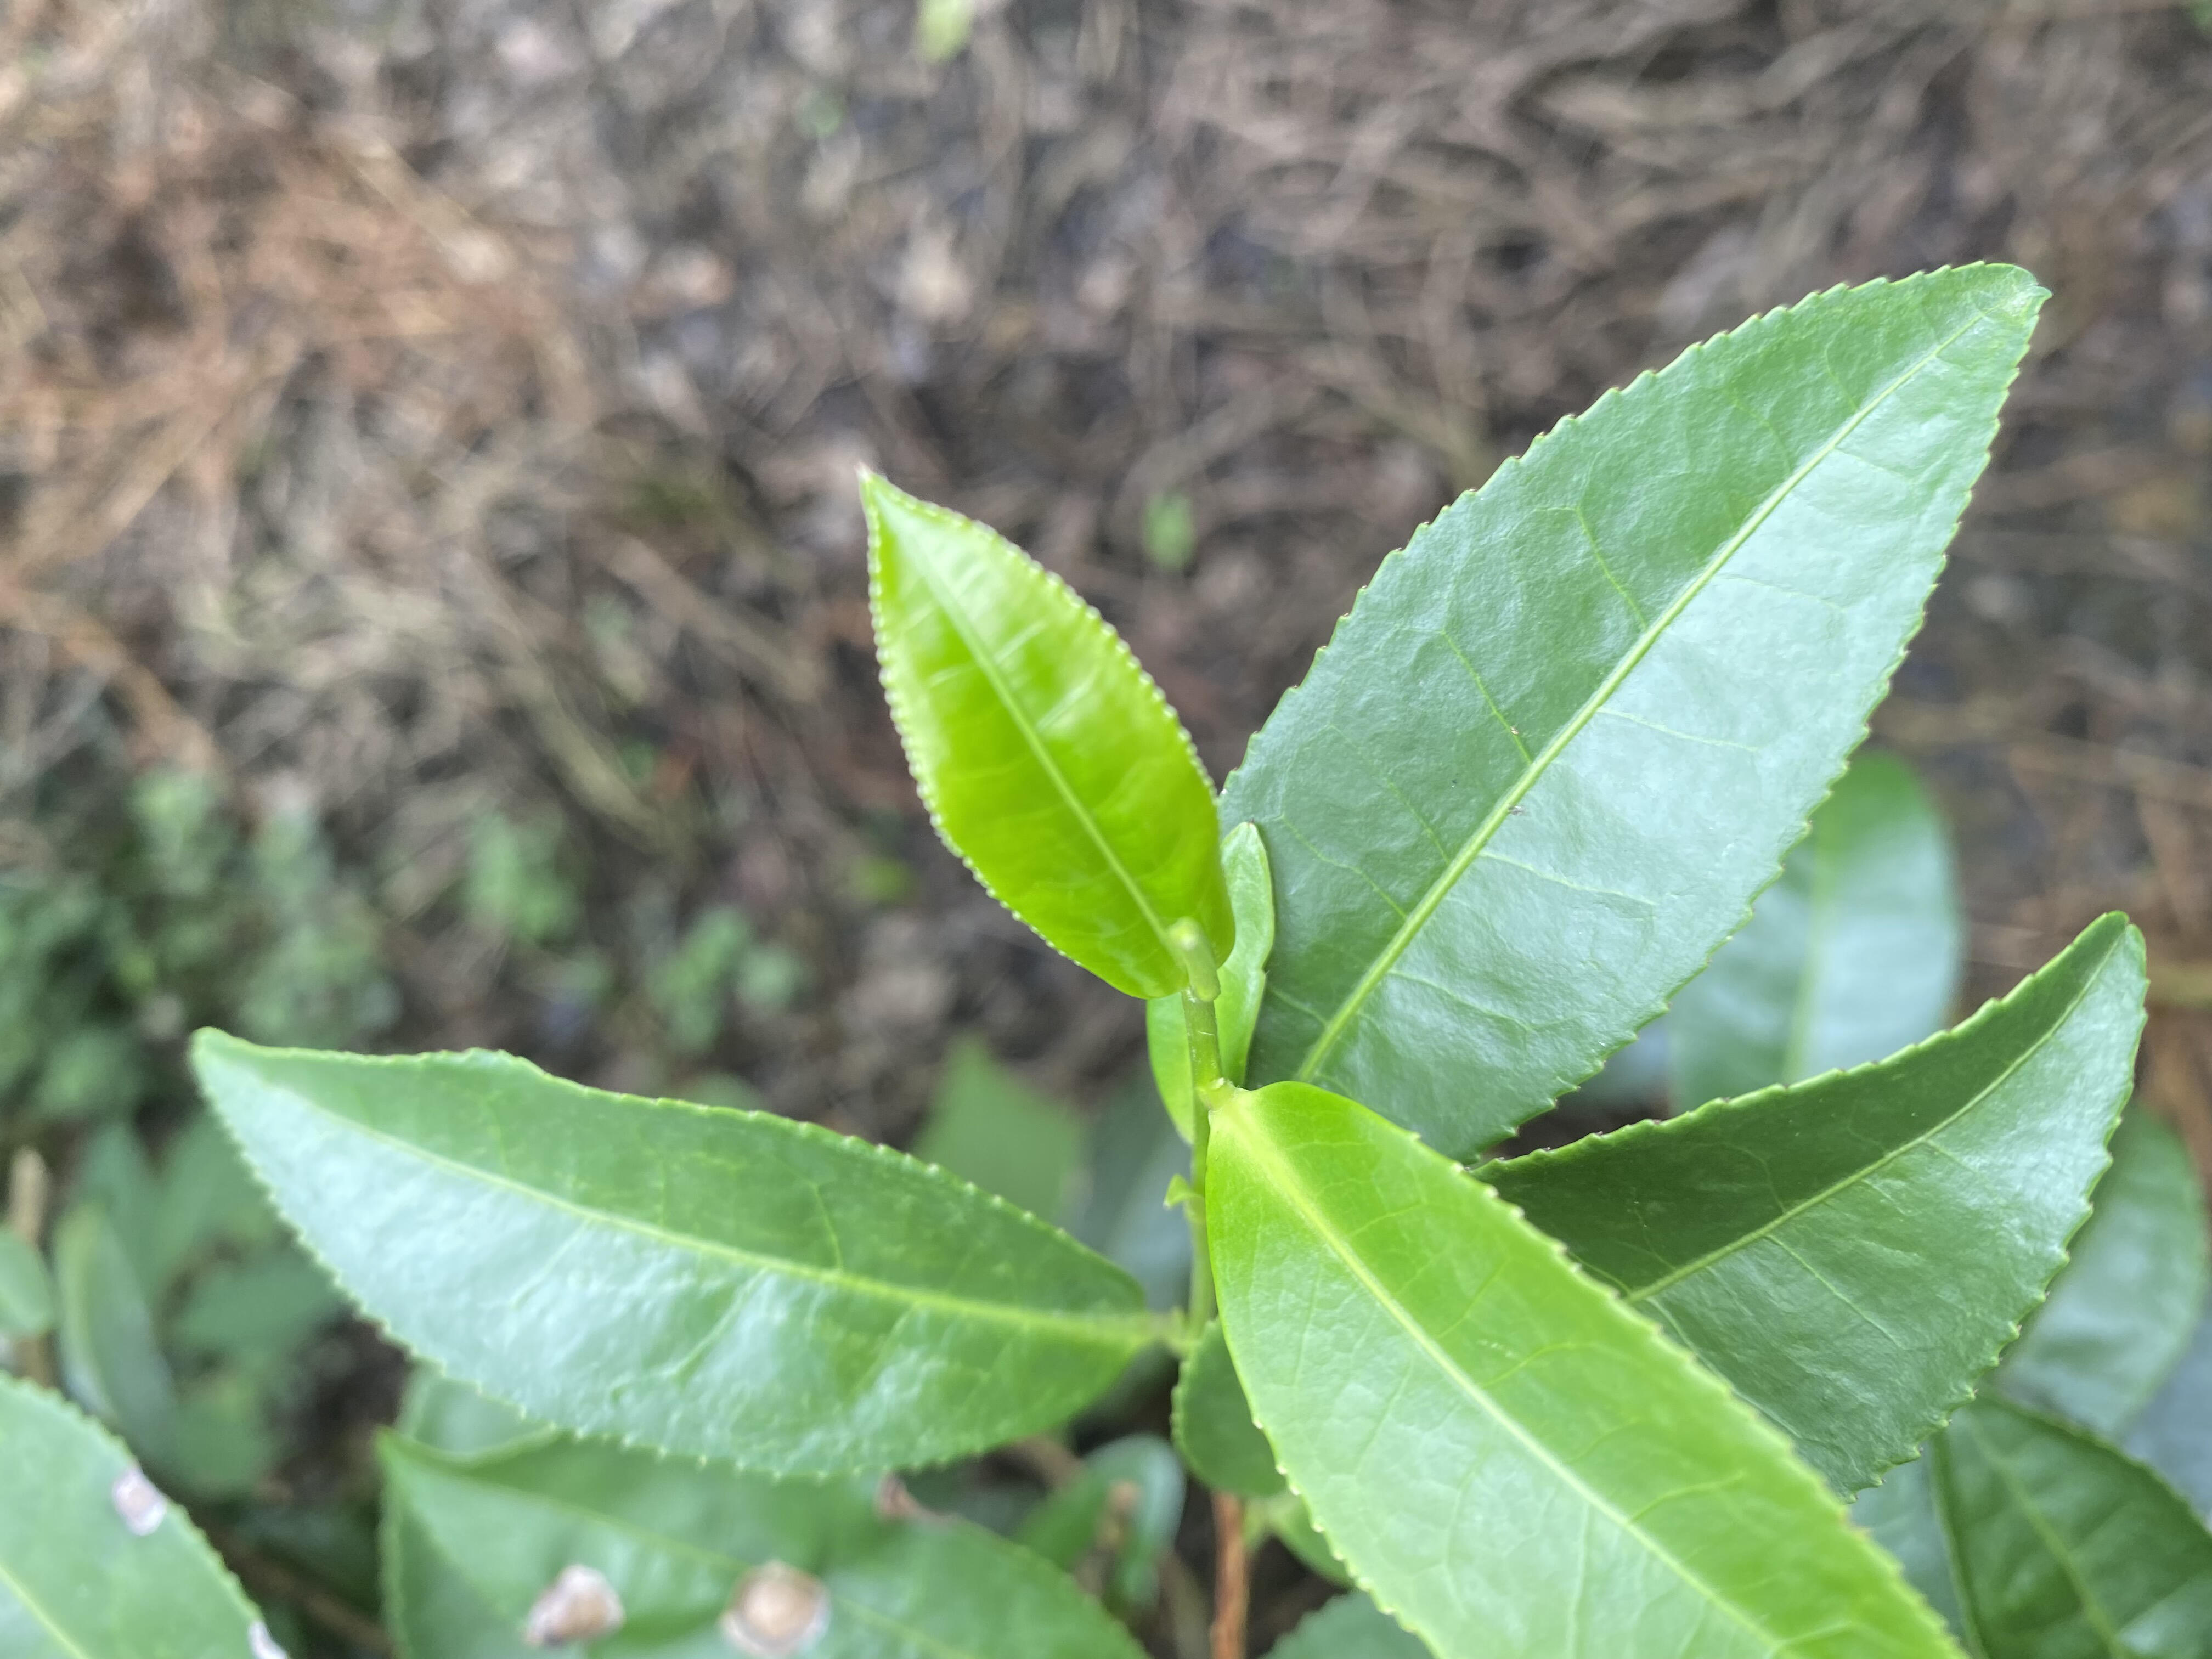healthy: (1155, 261, 2052, 1154), (186, 1023, 1151, 1483), (1205, 1080, 1970, 1656), (852, 460, 1235, 997)
